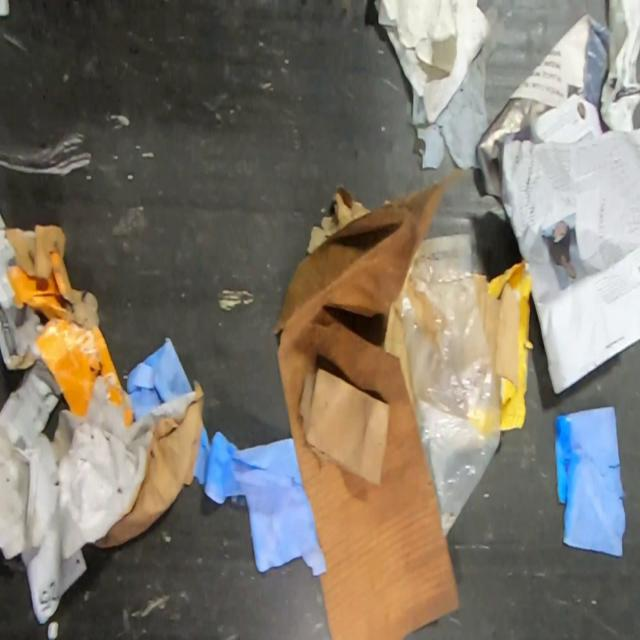cardboard: (274, 170, 463, 639), (1, 214, 132, 422), (56, 374, 204, 552), (472, 272, 520, 390)
soft_plastic: (392, 254, 502, 540)
